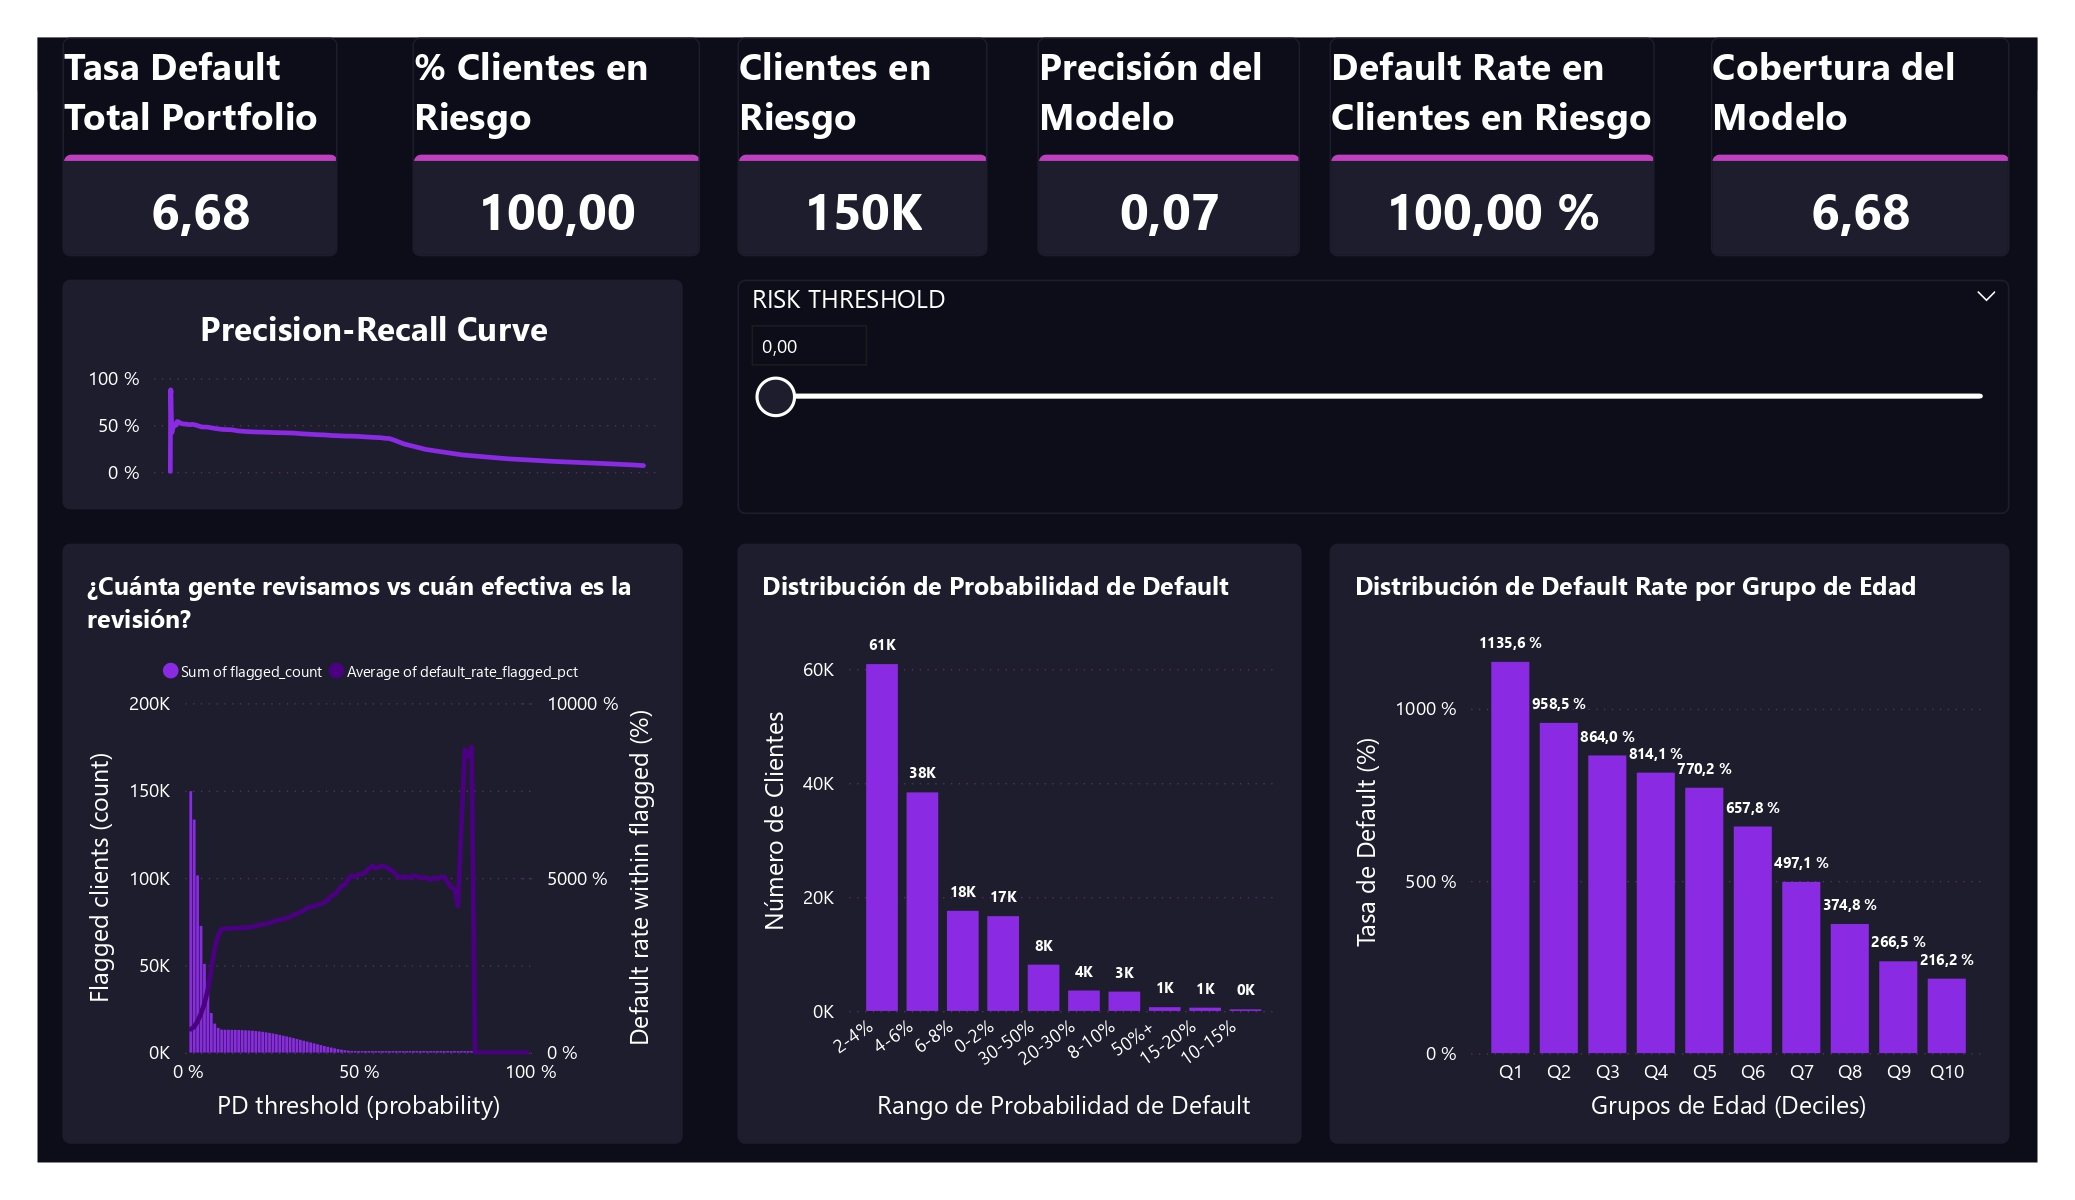

The dashboard page shown, as its layout file describes it:
{"tool":"powerbi","page":{"name":"Página 1","canvas":[1280,720],"ordinal":0},"visuals":[{"type":"cardVisual","title":"Tasa Default Total Portfolio","fields":{"Data":["pd_predictions.OverallDefaultRate_Pct"]},"box":[16.3,0,176.1,140.2],"z":0},{"type":"cardVisual","title":"% Clientes en Riesgo","fields":{"Data":["pd_predictions.FlaggedPct"]},"box":[240,0,184,140],"z":1000},{"type":"cardVisual","title":"Precisión del Modelo","fields":{"Data":["pd_predictions.Precision_at_Threshold"]},"box":[640,0,168,140],"z":2000},{"type":"cardVisual","title":"Clientes en Riesgo","fields":{"Data":["pd_predictions.FlaggedCount"]},"box":[448,0,160,140],"z":3000},{"type":"cardVisual","title":"Cobertura del Modelo","fields":{"Data":["pd_predictions.DefaultRate_Flagged_Pct"]},"box":[1071.3,0,190.8,140.2],"z":4000},{"type":"cardVisual","title":"Default Rate en Clientes en Riesgo","fields":{"Data":["pd_predictions.Recall_at_Threshold"]},"box":[826.7,0,208.7,140.2],"z":5000},{"type":"clusteredColumnChart","title":"Distribución de Probabilidad de Default","fields":{"Category":["pd_predictions.PD_Bins"],"Y":["CountNonNull(pd_predictions.person_id)"]},"box":[448.4,324.5,360.4,383.2],"z":6000},{"type":"clusteredColumnChart","title":"Distribución de Default Rate por Grupo de Edad","fields":{"Category":["defaults_by_age_decile.age_decile"],"Y":["Avg(defaults_by_age_decile.default_rate)"]},"box":[826.7,324.5,435.4,383.2],"z":7000},{"type":"lineChart","title":"Precision-Recall Curve","fields":{"Category":["pd_thresholds.recall"],"Y":["Avg(pd_thresholds.precision)"]},"box":[16.3,154.9,396.2,146.8],"z":9000},{"type":"lineStackedColumnComboChart","title":"¿Cuánta gente revisamos vs cuán efectiva es la revisión?","fields":{"Category":["pd_thresholds.threshold"],"Y":["Sum(pd_thresholds.flagged_count)"],"Y2":["Avg(pd_thresholds.default_rate_flagged_pct)"]},"box":[16.3,324.5,396.2,383.2],"z":10000},{"type":"slicer","fields":{"Values":["ThresholdParam.ThresholdParam"]},"box":[448.4,154.9,813.7,150],"z":10001}]}

Visuals, with their boxes in screenshot pixels (x1, y1, x2, y2):
"Tasa Default Total Portfolio" cardVisual: [left=63, top=38, right=338, bottom=257]
"% Clientes en Riesgo" cardVisual: [left=412, top=38, right=700, bottom=256]
"Precisión del Modelo" cardVisual: [left=1038, top=38, right=1300, bottom=256]
"Clientes en Riesgo" cardVisual: [left=738, top=38, right=988, bottom=256]
"Cobertura del Modelo" cardVisual: [left=1711, top=38, right=2010, bottom=257]
"Default Rate en Clientes en Riesgo" cardVisual: [left=1329, top=38, right=1655, bottom=257]
"Distribución de Probabilidad de Default" clusteredColumnChart: [left=738, top=545, right=1301, bottom=1143]
"Distribución de Default Rate por Grupo de Edad" clusteredColumnChart: [left=1329, top=545, right=2010, bottom=1143]
"Precision-Recall Curve" lineChart: [left=63, top=280, right=682, bottom=509]
"¿Cuánta gente revisamos vs cuán efectiva es la revisión?" lineStackedColumnComboChart: [left=63, top=545, right=682, bottom=1143]
slicer - ThresholdParam.ThresholdParam: [left=738, top=280, right=2010, bottom=514]
